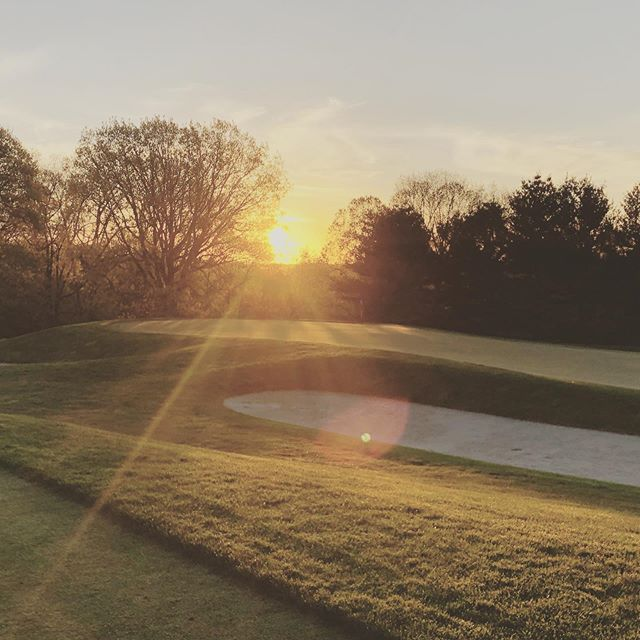sky: (14, 1, 640, 121)
sun: (261, 209, 320, 263)
tree: (54, 108, 302, 318), (457, 175, 640, 341), (336, 179, 440, 323), (1, 120, 52, 327)
